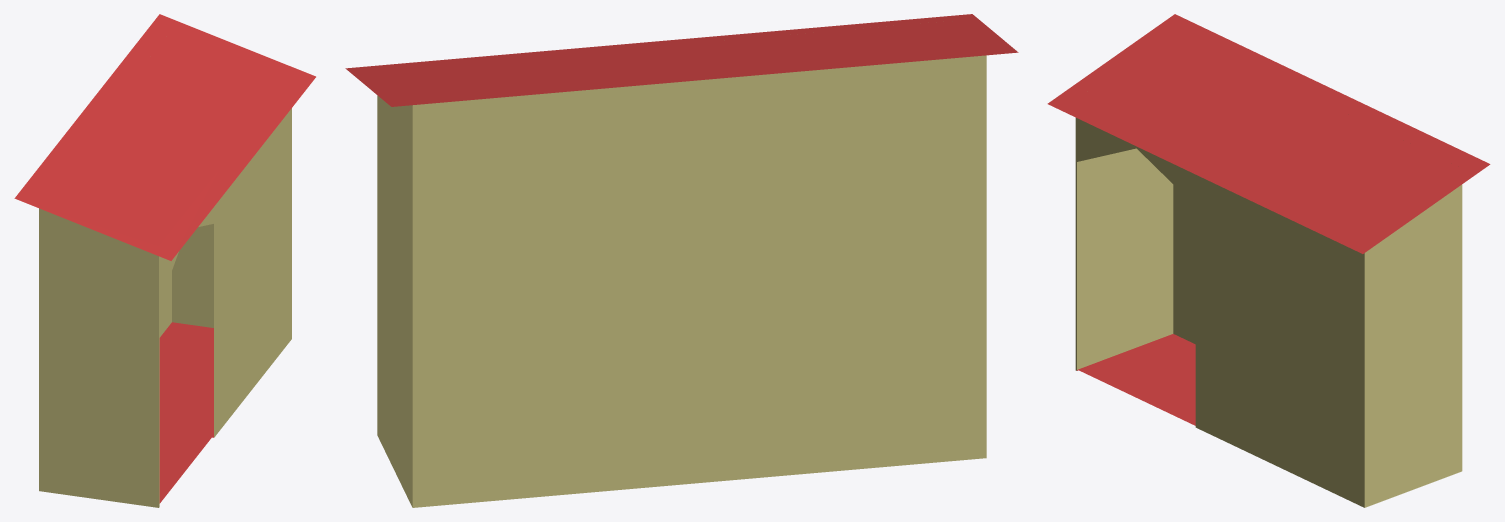
3 views of the same model, side by side, from view 1: azimuth 30°, elevation 25°; view 2: azimuth 150°, elevation 25°; view 3: azimuth 270°, elevation 25° (orthographic). The views are drawn at different scales.
Parts seen in each view (by area): view 1: group_5, group_3, group_6, group_4; view 2: group_5, group_3, group_4; view 3: group_5, group_3, group_6, group_4.
Part boxes in pixels (box(x1,y1,x2,y2)): group_5: box(39, 108, 291, 507); group_3: box(14, 15, 315, 260); group_6: box(159, 322, 213, 503); group_4: box(16, 14, 223, 260); group_5: box(377, 55, 986, 507); group_3: box(345, 14, 1017, 106); group_4: box(391, 14, 1018, 106); group_5: box(1075, 118, 1462, 507); group_3: box(1049, 14, 1488, 253); group_6: box(1077, 334, 1195, 425); group_4: box(1047, 15, 1490, 197).
Size of the model in its own units: 17.49 by 16.53 by 12.66.
